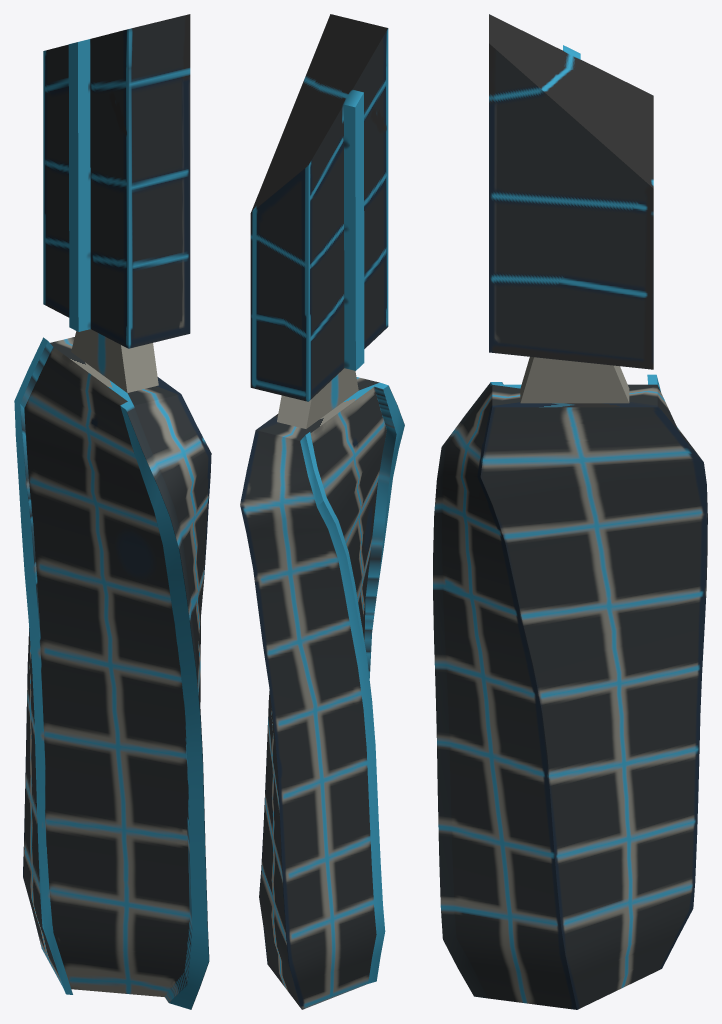
Rendered from future town3.fbx.
3 views of the same model, side by side, from view 1: azimuth 30°, elevation 25°; view 2: azimuth 150°, elevation 25°; view 3: azimuth 270°, elevation 25° (orthographic). The views are drawn at different scales.
Parts seen in each view (by area): view 1: pCube1; view 2: pCube1; view 3: pCube1.
Boxes of the visible parts, left/top/right/bottom form: pCube1: left=14, top=14, right=211, bottom=1009; pCube1: left=240, top=14, right=404, bottom=1009; pCube1: left=433, top=14, right=707, bottom=1009.
Size of the model in its own units: 15.38 by 104 by 27.2.
Materials: 1 (1 with a texture image).
